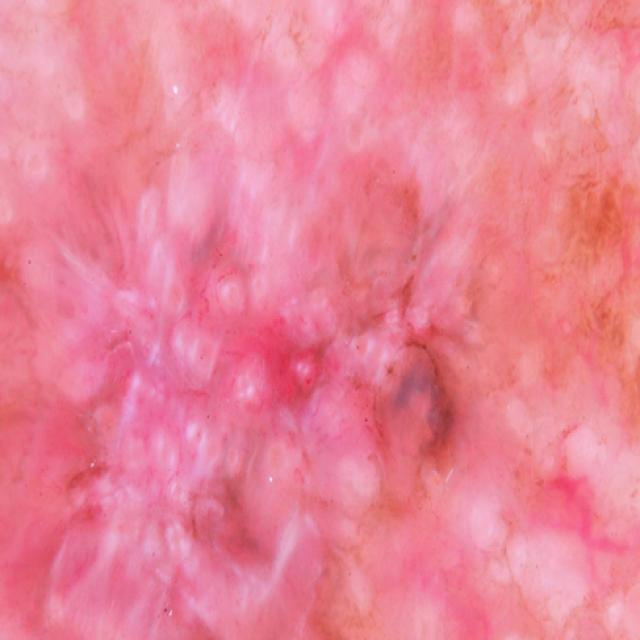Melanoma: (28, 104, 542, 640)
